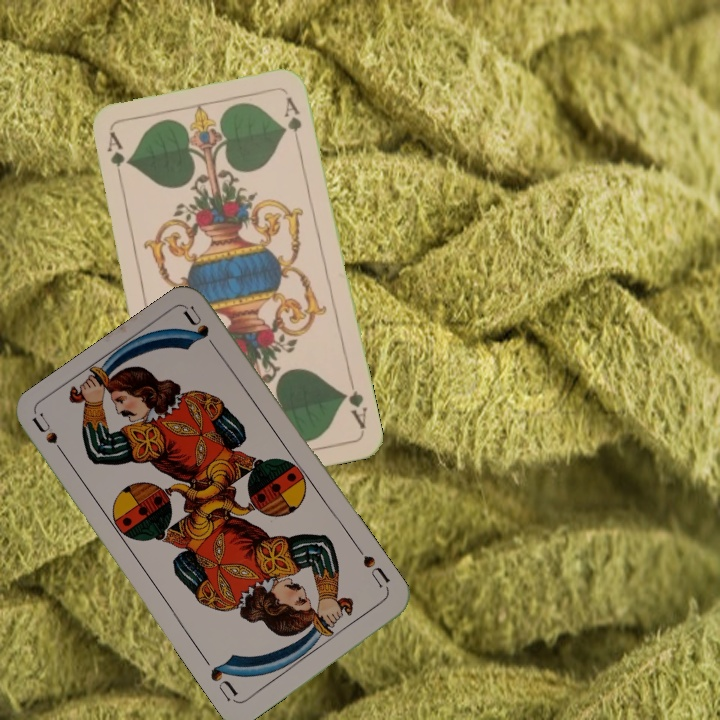GA: (338, 374, 370, 432), (103, 128, 128, 187)
SU: (28, 410, 72, 464), (353, 543, 393, 595)
